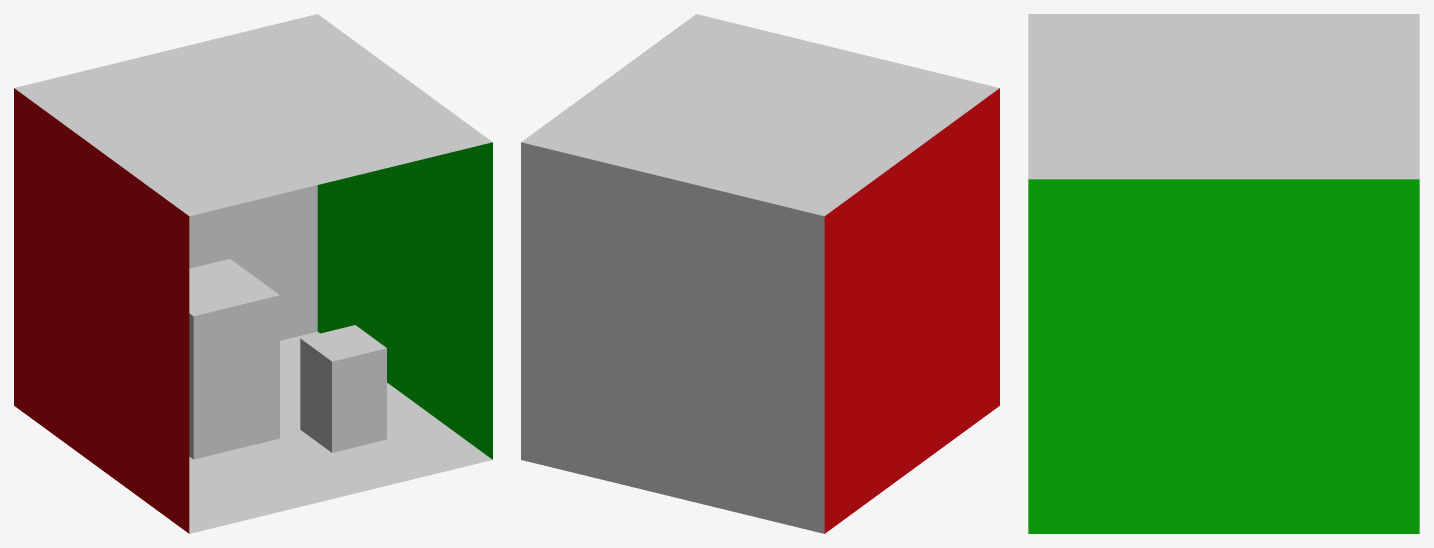
File: cornell.gltf
3 views of the same model, side by side, from view 1: azimuth 30°, elevation 25°; view 2: azimuth 150°, elevation 25°; view 3: azimuth 270°, elevation 25° (orthographic). The views are drawn at different scales.
Parts seen in each view (by area): view 1: Cornell box, Wall left, Wall right, Big box, Small box; view 2: Cornell box, Wall left; view 3: Wall right, Cornell box.
Boxes of the visible parts, bbox=[...] form: Cornell box: bbox=[14, 14, 492, 533]; Wall left: bbox=[14, 88, 189, 533]; Wall right: bbox=[317, 142, 492, 459]; Big box: bbox=[189, 259, 279, 459]; Small box: bbox=[300, 325, 386, 452]; Cornell box: bbox=[521, 14, 999, 533]; Wall left: bbox=[824, 88, 999, 533]; Wall right: bbox=[1028, 179, 1419, 533]; Cornell box: bbox=[1028, 14, 1419, 179].
Size of the model in its own units: 2 by 2 by 2.
